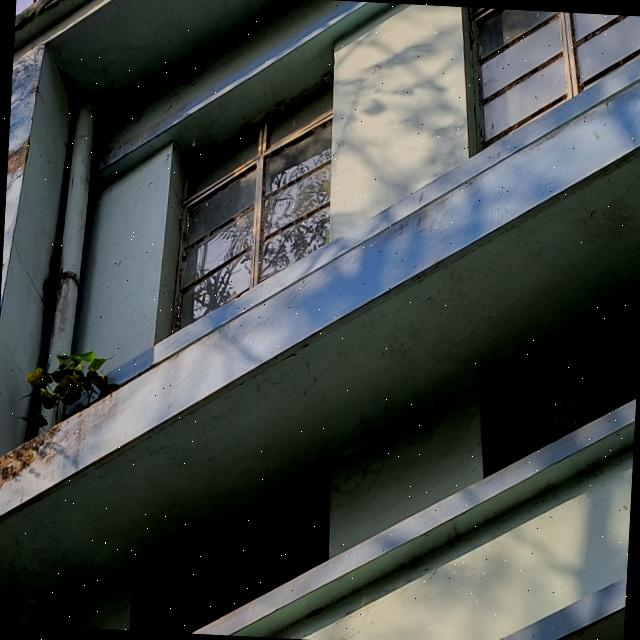peeling: (0, 421, 75, 494), (6, 135, 35, 191)
stain_mould: (8, 327, 132, 459)
